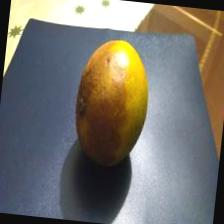Orange Rotten: (60, 27, 160, 178)
